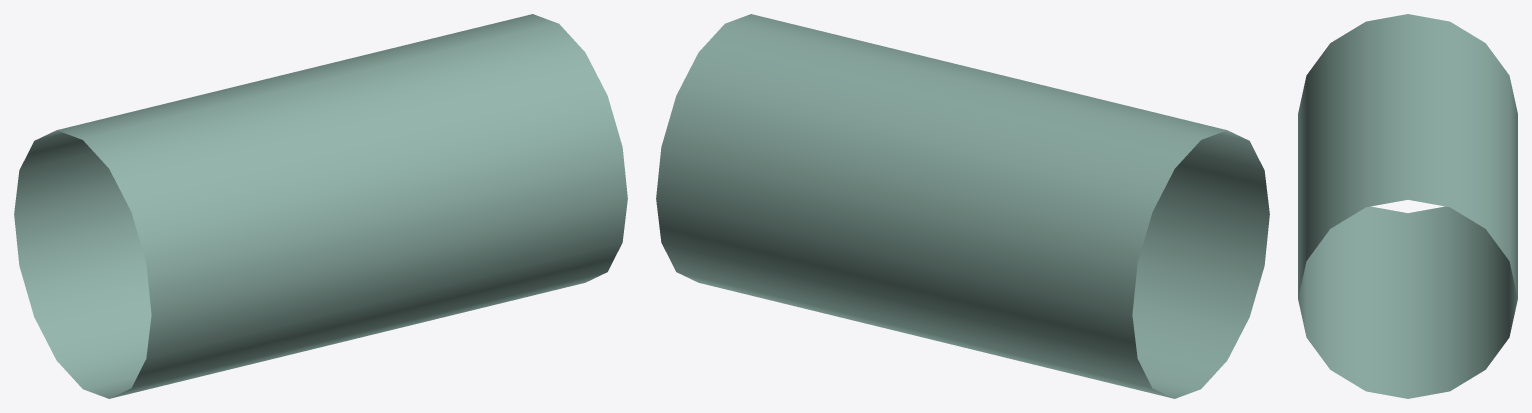
Rendered from PipeLarge_Straight_L02.fbx.
3 views of the same model, side by side, from view 1: azimuth 30°, elevation 25°; view 2: azimuth 150°, elevation 25°; view 3: azimuth 270°, elevation 25° (orthographic). The views are drawn at different scales.
Visible parts, largest first — view 1: PipeLarge_Straight_L02.001; view 2: PipeLarge_Straight_L02.001; view 3: PipeLarge_Straight_L02.001.
Part boxes in pixels (x1,y1,x2,y2): PipeLarge_Straight_L02.001: (14, 14, 627, 398); PipeLarge_Straight_L02.001: (656, 14, 1269, 398); PipeLarge_Straight_L02.001: (1298, 14, 1517, 398).
Size of the model in its own units: 0.4 by 0.2 by 0.2.
